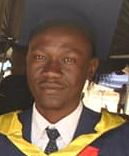without_facemask: (26, 69, 83, 112)
